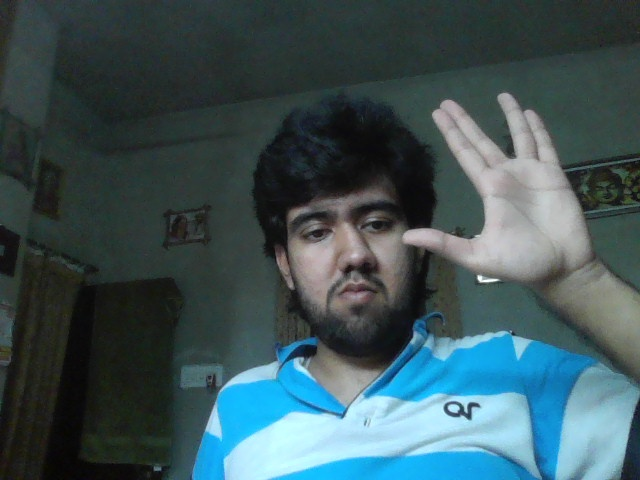LiveLong: (402, 92, 593, 279)
